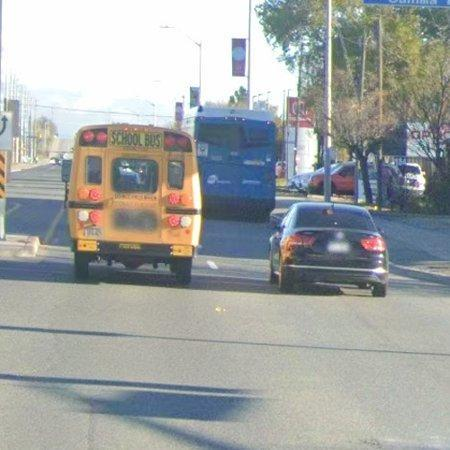buses: (65, 125, 202, 284), (183, 106, 277, 220)
